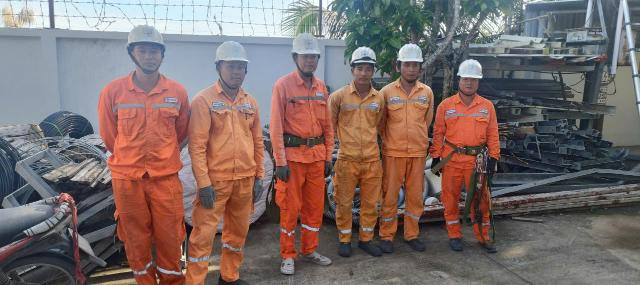gloves: (193, 181, 222, 211), (270, 165, 300, 187), (424, 151, 450, 176), (320, 156, 335, 183), (483, 158, 504, 177)
harness: (272, 130, 341, 148), (446, 136, 496, 157)
helmet: (396, 38, 434, 70), (126, 23, 168, 49), (212, 41, 253, 66), (290, 32, 326, 60), (455, 58, 485, 87), (350, 44, 378, 73)
shoes: (356, 229, 386, 265), (400, 223, 430, 255), (299, 245, 335, 271), (477, 236, 508, 260), (274, 250, 298, 280), (336, 231, 360, 260), (449, 229, 470, 256), (381, 231, 400, 260), (217, 269, 251, 285)
